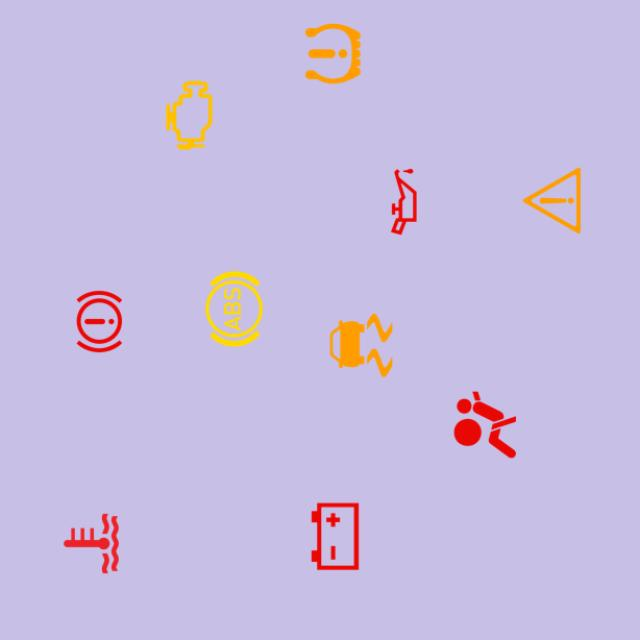Anti Lock Braking System: (193, 268, 275, 350)
Braking System Issue: (58, 280, 141, 363)
Charging System Issue: (294, 495, 376, 578)
Check Engine: (148, 74, 230, 156)
Electronic Stability Problem -ESP-: (320, 304, 402, 387)
Engine Overheating Warning Light: (50, 502, 132, 585)
Low Engine Oil Warning Light: (363, 160, 445, 243)
Low Tire Pressure Warning Light: (292, 12, 374, 95)
Master warning light: (511, 159, 593, 242)
SRS-Airbag: (444, 384, 526, 466)
